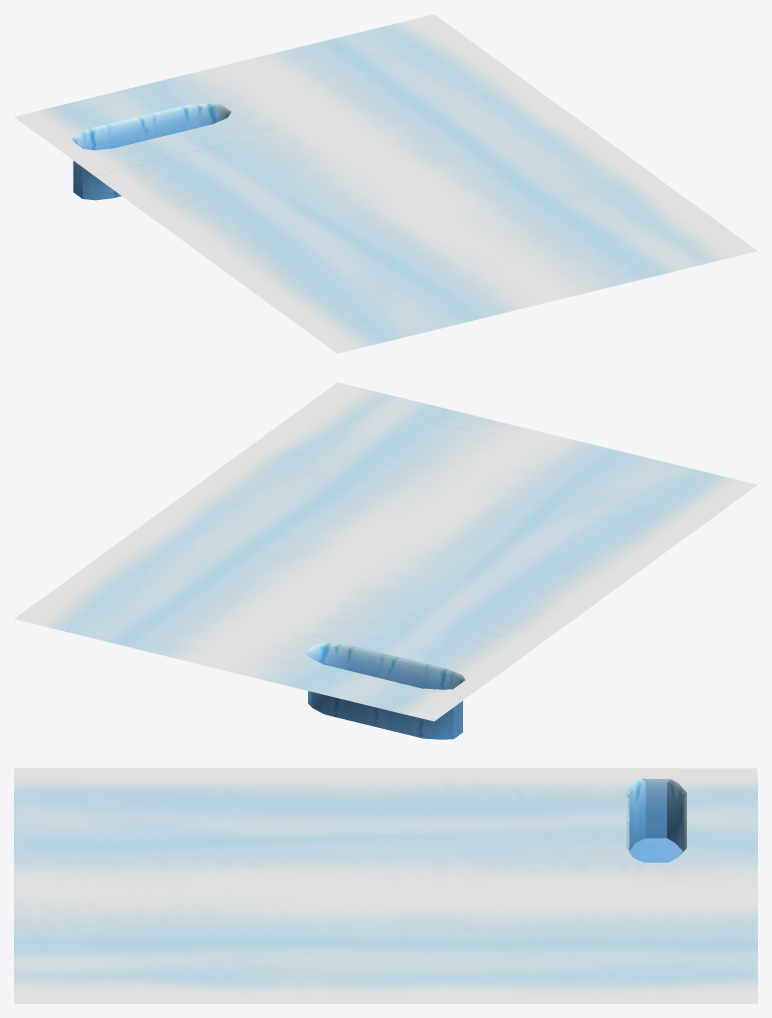
The model's file is Hole_S_Size_01.FBX.
3 views of the same model, one above another, from view 1: azimuth 30°, elevation 25°; view 2: azimuth 150°, elevation 25°; view 3: azimuth 270°, elevation 25° (orthographic). The views are drawn at different scales.
Parts seen in each view (by area): view 1: Object109; view 2: Object109; view 3: Object109.
Part boxes in pixels (x1,y1,x2,y2): Object109: [14, 14, 757, 353]; Object109: [14, 382, 757, 739]; Object109: [14, 768, 757, 1003].
Size of the model in its own units: 600 by 70 by 800.
